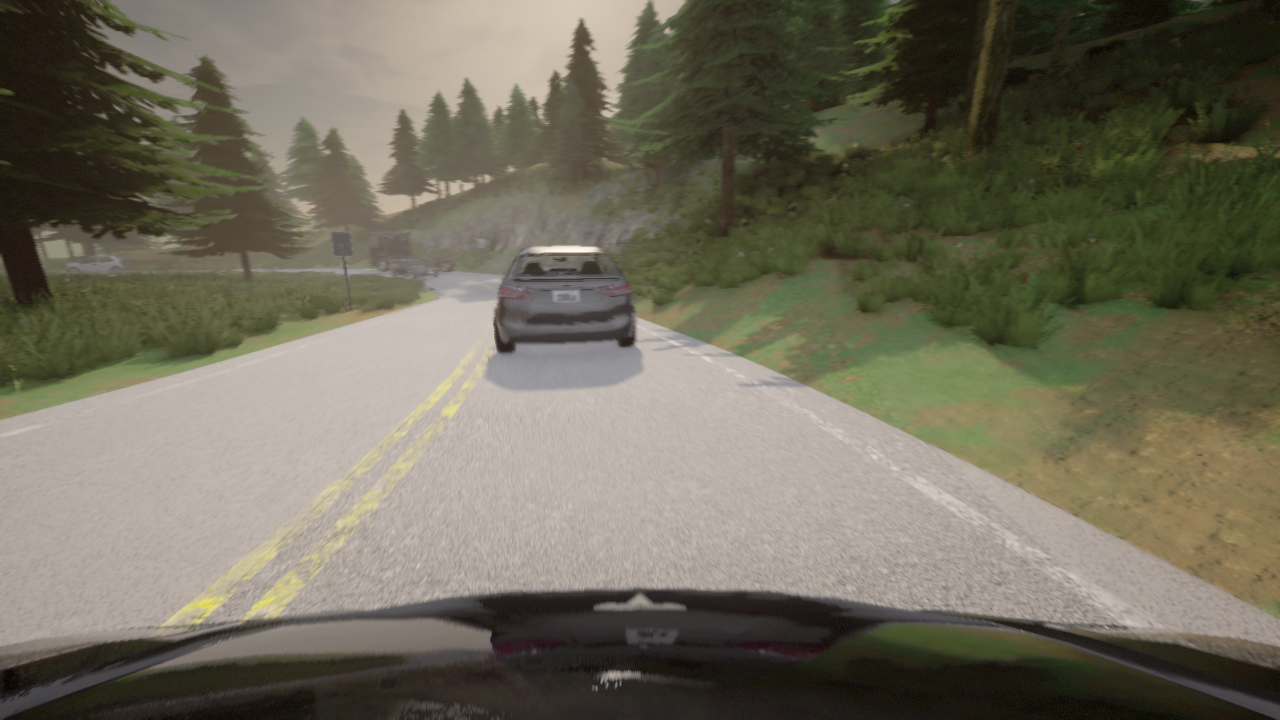cyclist: (0, 588, 1279, 719), (495, 245, 636, 352), (368, 230, 459, 272), (66, 255, 133, 274), (390, 259, 440, 278)
